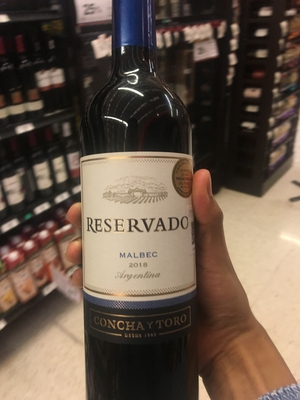reservado malbec: (75, 8, 204, 384)
